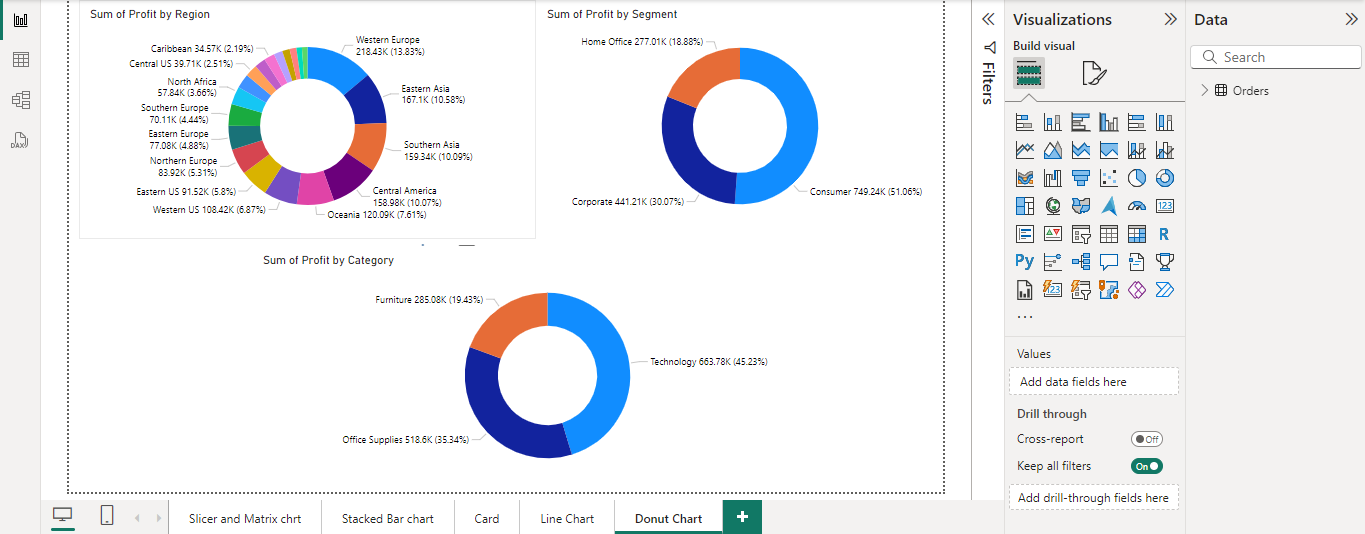

The dashboard page shown, as its layout file describes it:
{"tool":"powerbi","page":{"name":"Donut Chart","canvas":[1280,720],"ordinal":4},"visuals":[{"type":"donutChart","fields":{"Y":["Sum(Orders.Profit)"],"Category":["Orders.Region"]},"box":[14.6,0,668.8,349.8],"z":0},{"type":"donutChart","fields":{"Y":["Sum(Orders.Profit)"],"Category":["Orders.Segment"]},"box":[683.4,0,597.1,349.8],"z":1000},{"type":"donutChart","fields":{"Category":["Orders.Category"],"Y":["Sum(Orders.Profit)"]},"box":[267.8,360,864.9,360],"z":2000},{"type":"slicer","fields":{"Values":["Orders.State"]},"box":[833.7,8.8,446.3,150.7],"z":3000}]}

Visuals, with their boxes on the page's 1280x720 design canvas (x1, y1, x2, y2). These are canvas units, not pixel positions in the 1365x534 screenshot, which may show the page scaled, cropped or inside an application window:
donutChart - Sum(Orders.Profit) x Orders.Region: [left=15, top=0, right=683, bottom=350]
donutChart - Sum(Orders.Profit) x Orders.Segment: [left=683, top=0, right=1280, bottom=350]
donutChart - Orders.Category x Sum(Orders.Profit): [left=268, top=360, right=1133, bottom=720]
slicer - Orders.State: [left=834, top=9, right=1280, bottom=160]
